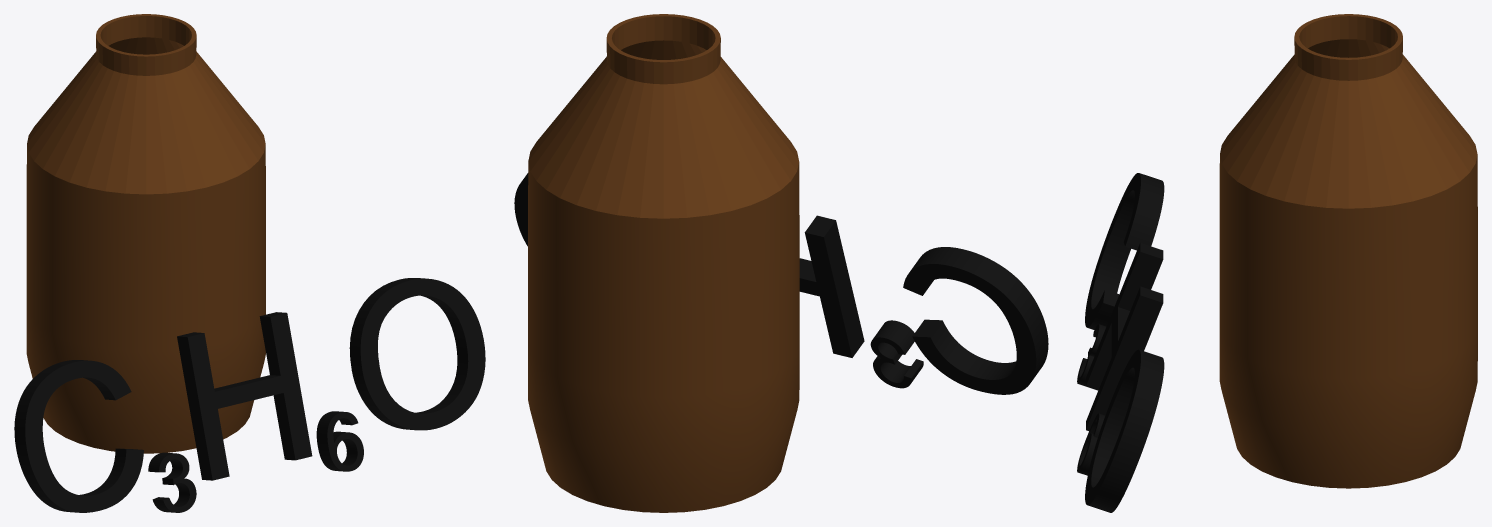
3 renders of one model, left to right at view 1: azimuth 30°, elevation 25°; view 2: azimuth 150°, elevation 25°; view 3: azimuth 270°, elevation 25°, orthographic. The views are drawn at different scales.
Visible parts, largest first — view 1: C3H6O; view 2: C3H6O; view 3: C3H6O.
Boxes of the visible parts, x1,y1,x2,y2 form: C3H6O: (14,14,485,512); C3H6O: (514,14,1048,512); C3H6O: (1077,14,1477,512).
Bounding box in the file's own units: 7.25 × 5.67 × 5.1.
